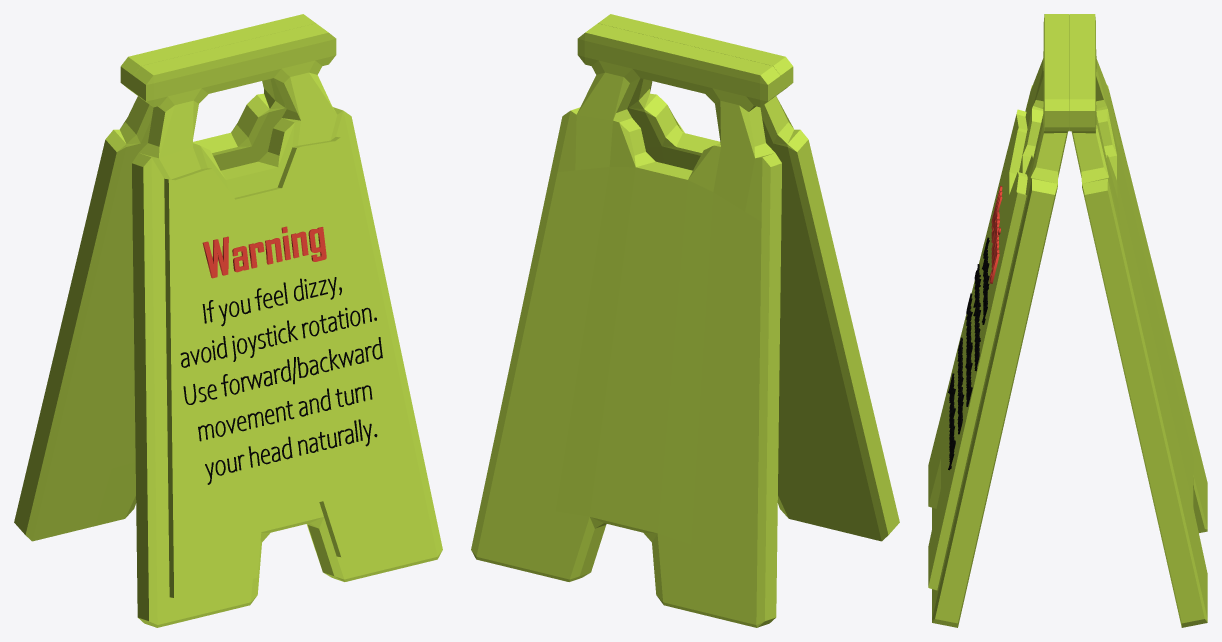
Rendered from Warning.fbx.
3 views of the same model, side by side, from view 1: azimuth 30°, elevation 25°; view 2: azimuth 150°, elevation 25°; view 3: azimuth 270°, elevation 25° (orthographic).
Parts seen in each view (by area): view 1: Cube, Text.001, Text; view 2: Cube; view 3: Cube, Text.001, Text.
Boxes of the visible parts, x1=… form: Cube: x1=14, y1=14, x2=442, y2=627; Text.001: x1=180, y1=277, x2=382, y2=484; Text: x1=202, y1=226, x2=326, y2=278; Cube: x1=471, y1=14, x2=899, y2=627; Cube: x1=928, y1=14, x2=1207, y2=627; Text.001: x1=948, y1=237, x2=989, y2=470; Text: x1=989, y1=185, x2=1002, y2=283.
Size of the model in its own units: 199 by 326 by 164.
